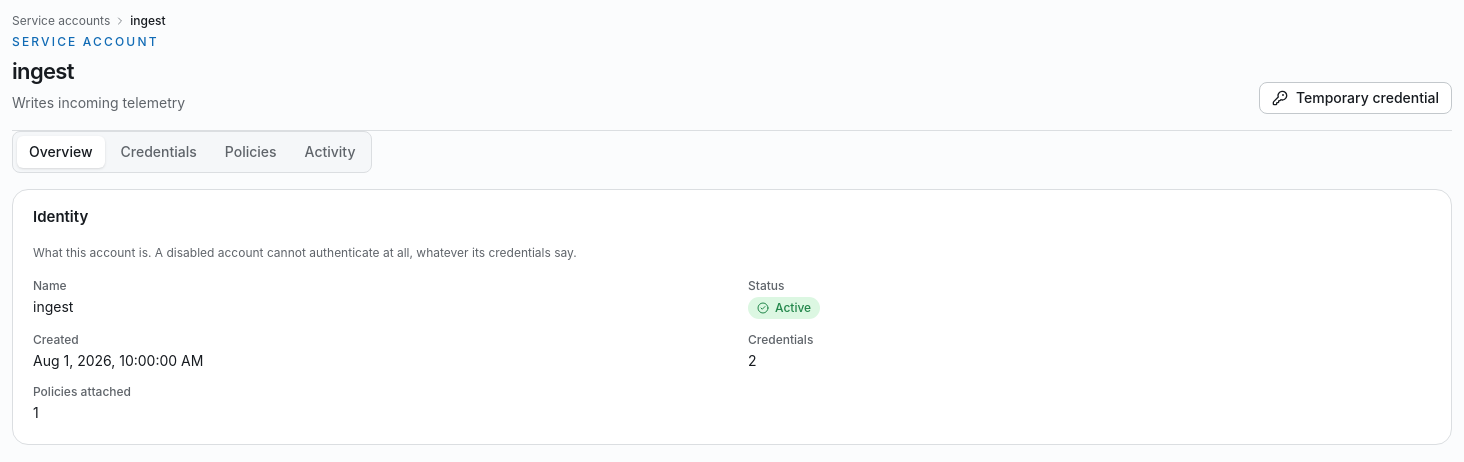
Test: ServiceAccountDetail › distinguishes a permanent credential from a temporary one
Click the tab "Credentials". click: (159, 152)
box: [108,136,209,168]
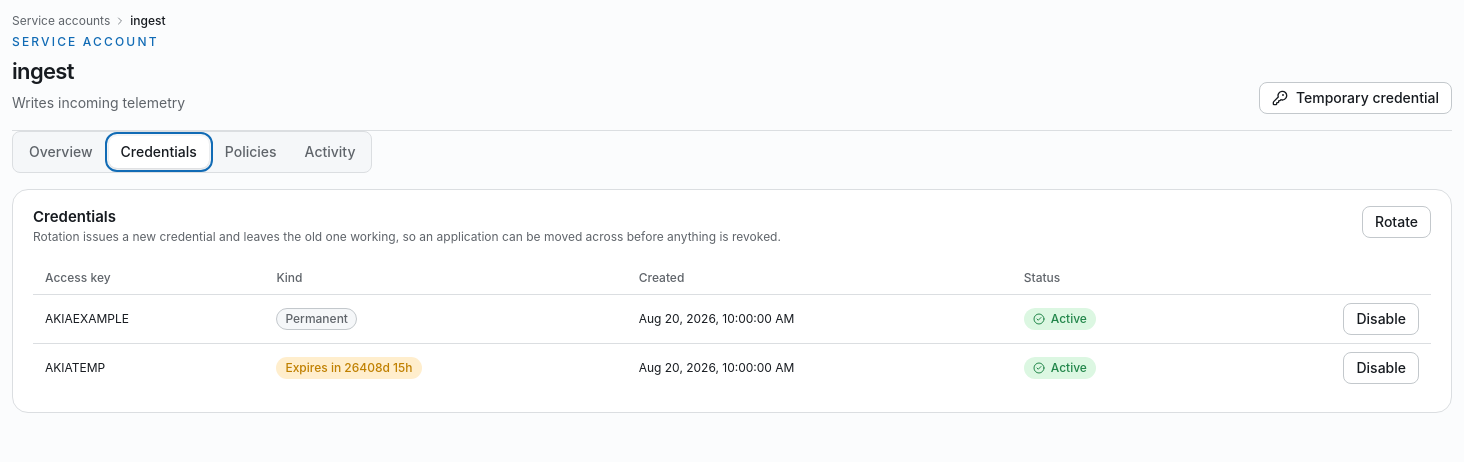
expect the text "Permanent" is shown: met, box [276,308,357,330]
expect the text "Expires in 26408d 15h" is shown: met, box [276,357,422,379]
